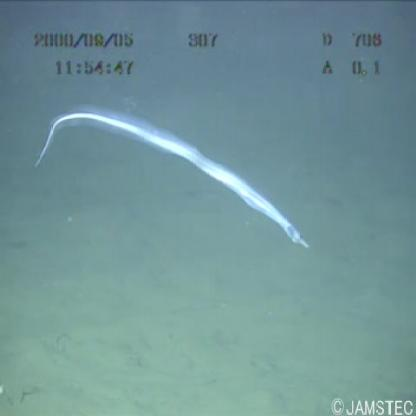Bio: (31, 107, 316, 254)
